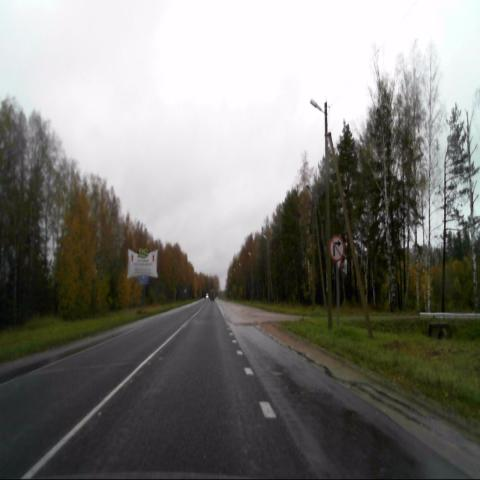3_18: (329, 236, 343, 258)
